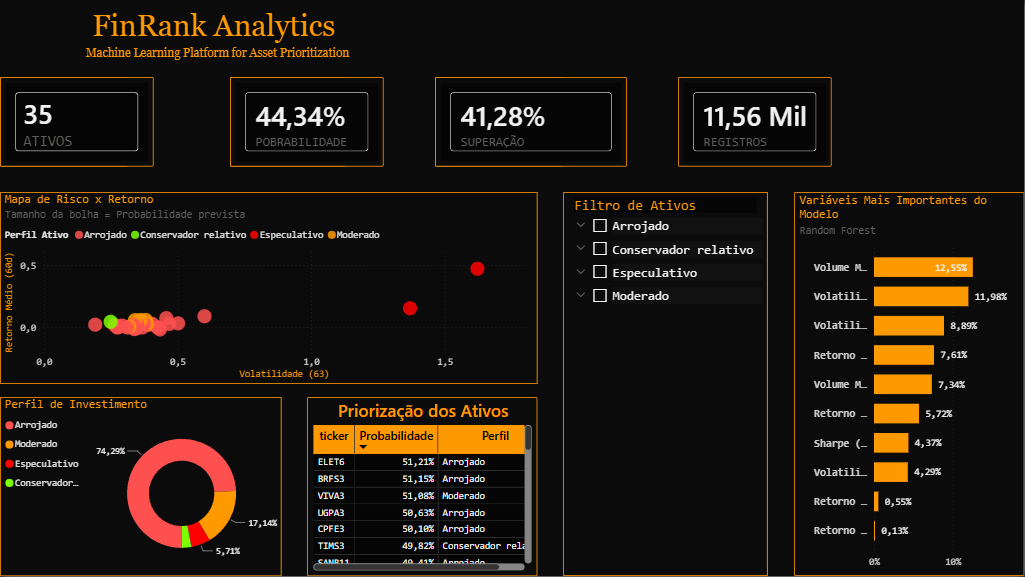

This screenshot's page, from the dashboard's own definition file:
{"tool":"powerbi","page":{"name":"Dashboard","canvas":[1280,720],"ordinal":0},"visuals":[{"type":"textbox","box":[64,0,416,96],"z":0},{"type":"shape","box":[0,96,160,112],"z":1000},{"type":"shape","box":[288,96,144,112],"z":2000},{"type":"shape","box":[544,96,160,112],"z":3000},{"type":"cardVisual","title":"ATIVOS","fields":{"Data":["Dashboard_Ativos.Ativos Analisados"]},"box":[0,96,192,112],"z":4000},{"type":"cardVisual","title":"PROBABILIDADE","fields":{"Data":["Dashboard_Ativos.Probalidade Média"]},"box":[288,96,192,112],"z":5000},{"type":"cardVisual","title":"SUPERAÇÃO","fields":{"Data":["Dashboard_Ativos.Taxa Média de Superação"]},"box":[544,96,240,112],"z":6000},{"type":"cardVisual","title":"REGISTROS","fields":{"Data":["Dashboard_Ativos.Obervações"]},"box":[848,96,192,112],"z":7000},{"type":"tableEx","title":"Priorização dos Ativos ","fields":{"Values":["Dashboard_Ativos.ticker","Dashboard_Ativos.Probabilidade","Dashboard_Ativos.Perfil Ativo"]},"box":[384,496,288,224],"z":8000},{"type":"scatterChart","title":"Mapa de Risco x Retorno","fields":{"X":["Dashboard_Ativos.Volatilidade (63)"],"Y":["Dashboard_Ativos.Retorno Médio (60d)"],"Series":["Dashboard_Ativos.Perfil Ativo"],"Size":["CountNonNull(Dashboard_Ativos.Probabilidade)"]},"box":[0,240,672,240],"z":9000},{"type":"donutChart","title":"Perfil de Investimento","fields":{"Category":["Dashboard_Ativos.Perfil Ativo"],"Y":["CountNonNull(Dashboard_Ativos.ticker)"]},"box":[0,496,352,224],"z":10000},{"type":"barChart","title":"Variáveis Mais Importantes do Modelo","fields":{"Y":["Avg(feature_importance_random_forest.Column2)"],"Category":["feature_importance_random_forest.Column1"]},"box":[992,240,288,480],"z":11000},{"type":"slicer","fields":{"Values":["Dashboard_Ativos.Perfil Ativo","Dashboard_Ativos.ticker","Dashboard_Ativos.Probabilidade"]},"box":[704,240,256,480],"z":11001}]}

Visuals, with their boxes in screenshot pixels (x1, y1, x2, y2), scaled from the page's 1280x720 canvas onto the 1025x577 screenshot:
textbox: {"x1": 51, "y1": 0, "x2": 384, "y2": 77}
shape: {"x1": 0, "y1": 77, "x2": 128, "y2": 167}
shape: {"x1": 231, "y1": 77, "x2": 346, "y2": 167}
shape: {"x1": 436, "y1": 77, "x2": 564, "y2": 167}
"ATIVOS" cardVisual: {"x1": 0, "y1": 77, "x2": 154, "y2": 167}
"PROBABILIDADE" cardVisual: {"x1": 231, "y1": 77, "x2": 384, "y2": 167}
"SUPERAÇÃO" cardVisual: {"x1": 436, "y1": 77, "x2": 628, "y2": 167}
"REGISTROS" cardVisual: {"x1": 679, "y1": 77, "x2": 833, "y2": 167}
"Priorização dos Ativos " tableEx: {"x1": 308, "y1": 397, "x2": 538, "y2": 576}
"Mapa de Risco x Retorno" scatterChart: {"x1": 0, "y1": 192, "x2": 538, "y2": 385}
"Perfil de Investimento" donutChart: {"x1": 0, "y1": 397, "x2": 282, "y2": 576}
"Variáveis Mais Importantes do Modelo" barChart: {"x1": 794, "y1": 192, "x2": 1024, "y2": 576}
slicer - Dashboard_Ativos.Perfil Ativo x Dashboard_Ativos.ticker: {"x1": 564, "y1": 192, "x2": 769, "y2": 576}
